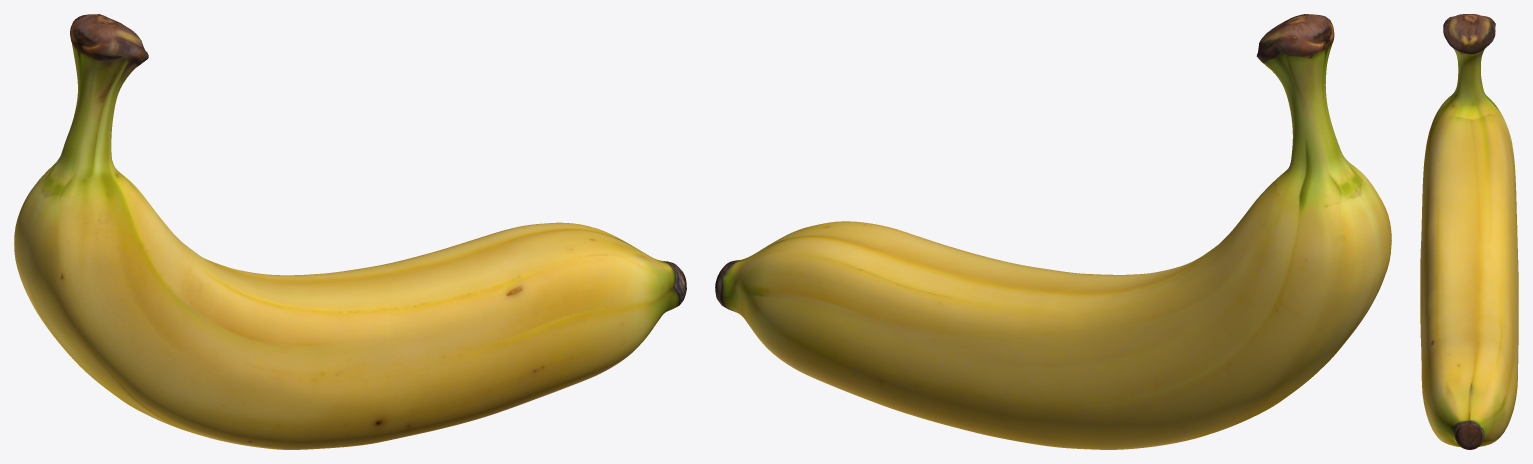
The model's file is Meshy_AI_Banana_0301025912_texture.glb.
3 renders of one model, left to right at view 1: azimuth 30°, elevation 25°; view 2: azimuth 150°, elevation 25°; view 3: azimuth 270°, elevation 25°, orthographic. The views are drawn at different scales.
Visible parts, largest first — view 1: Mesh_0; view 2: Mesh_0; view 3: Mesh_0.
Boxes of the visible parts, bbox=[...] form: Mesh_0: bbox=[14, 14, 686, 449]; Mesh_0: bbox=[715, 14, 1391, 449]; Mesh_0: bbox=[1420, 14, 1518, 449].
Size of the model in its own units: 1.43 by 1 by 0.3016.
1 material, 1 textured.
